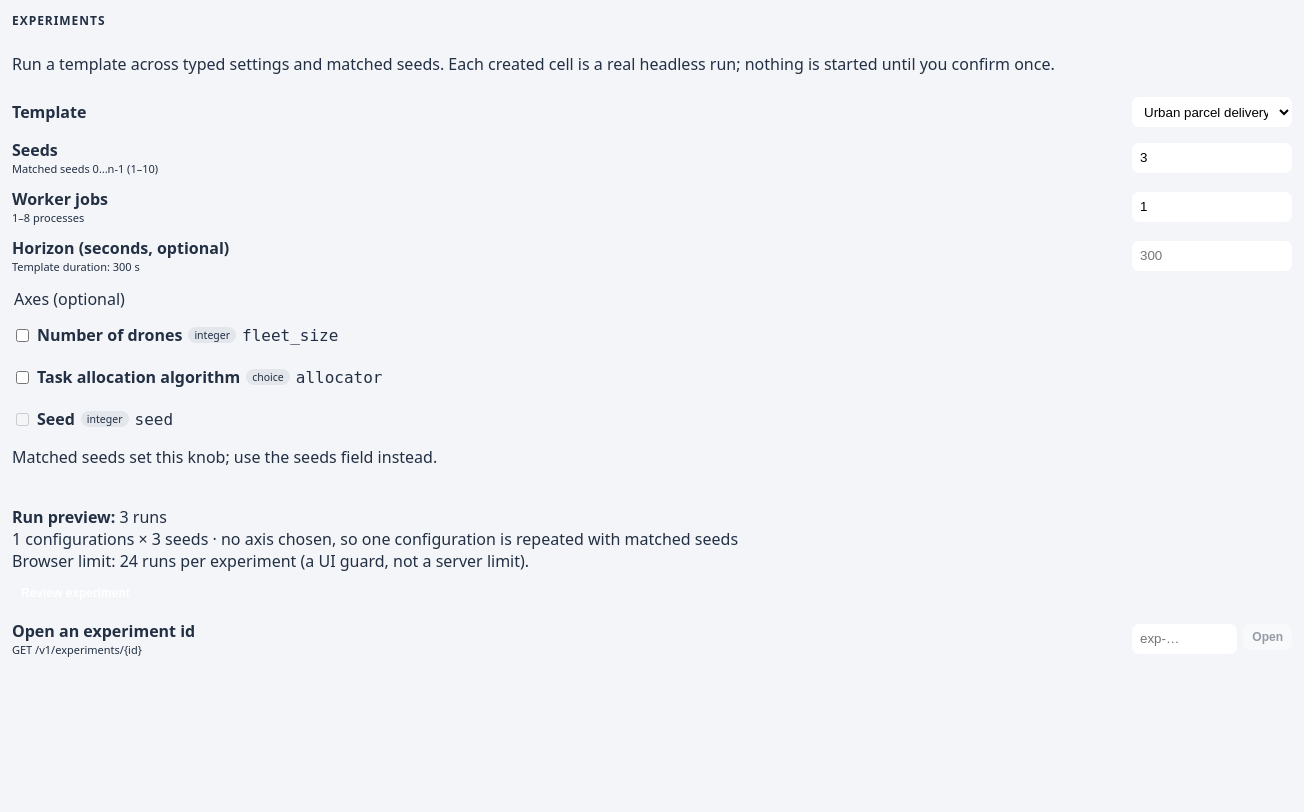
ExperimentPanel › refuses a plan above the visible browser limit before any POST
The width and height of the screenshot is (1304, 812).
Check: the dropdown with test id "experiment-template" shows "Urban parcel delivery", box [1132,97,1292,127]
Click the checkbox named "Vary Number of drones" at (22,335), box [16,328,29,342]
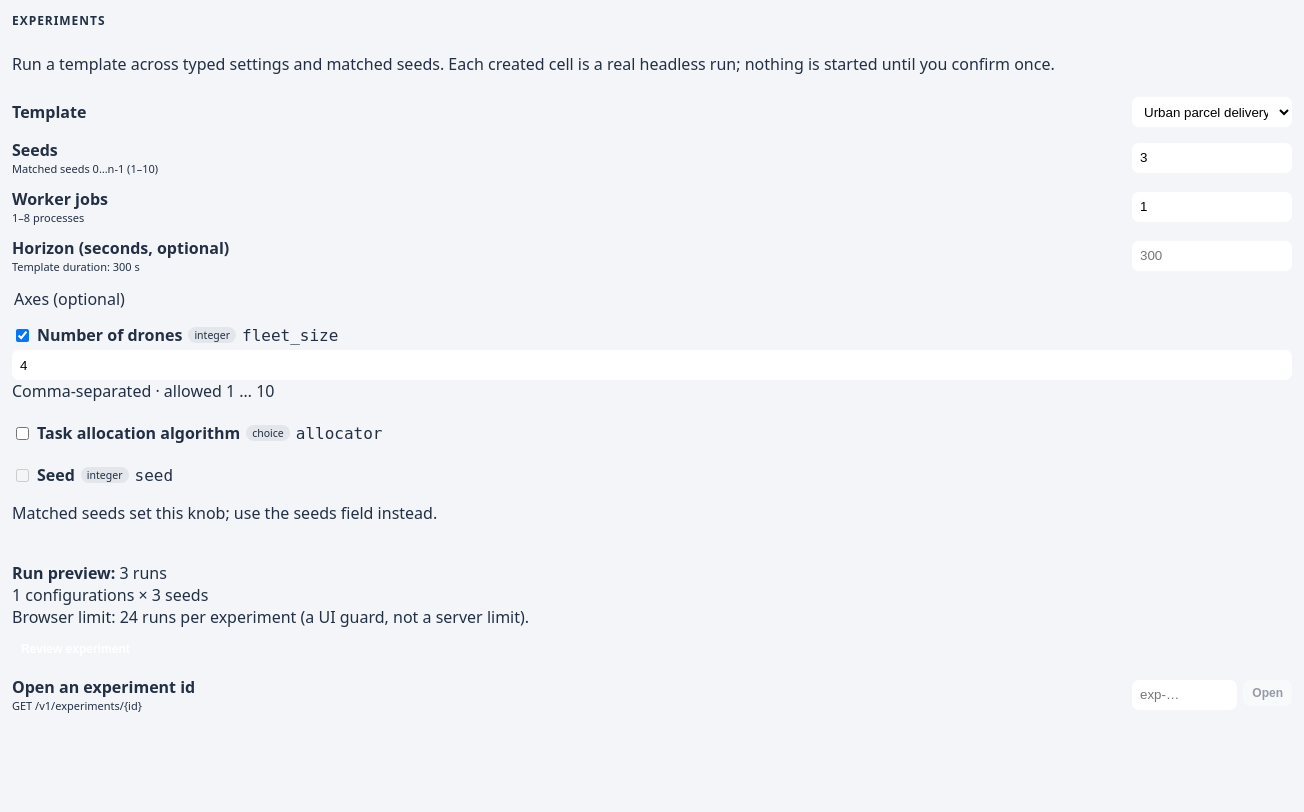
Replace the text in the field with test id "experiment-values-fleet_size" with "1,2,3,4,5,6,7,8,9,10" at (652,365), box [12,350,1292,380]
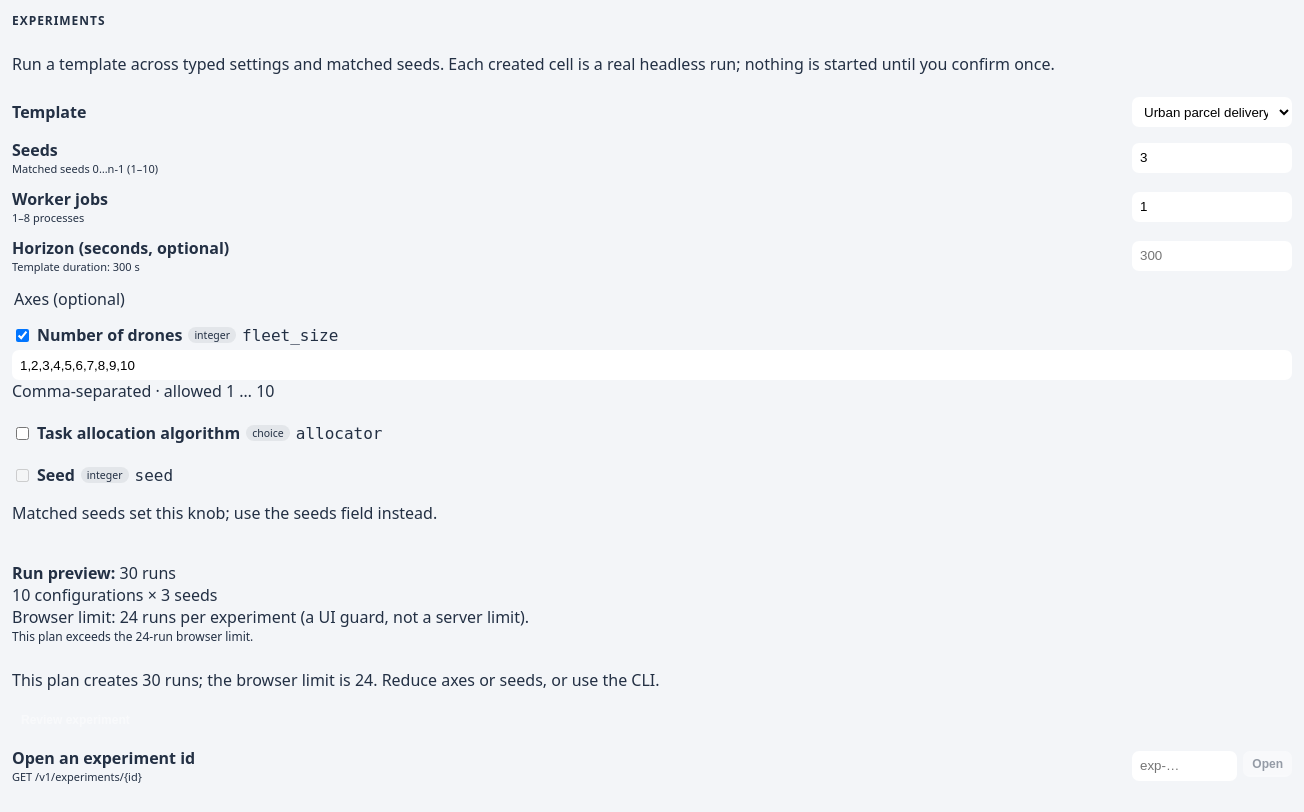
Check: the element with test id "experiment-preview" shows "Browser limit", box [12,606,529,628]
Check: the element with test id "experiment-preview" shows "30", box [120,562,176,584]
Check: the text "browser limit is 24" is shown, box [12,669,660,691]
